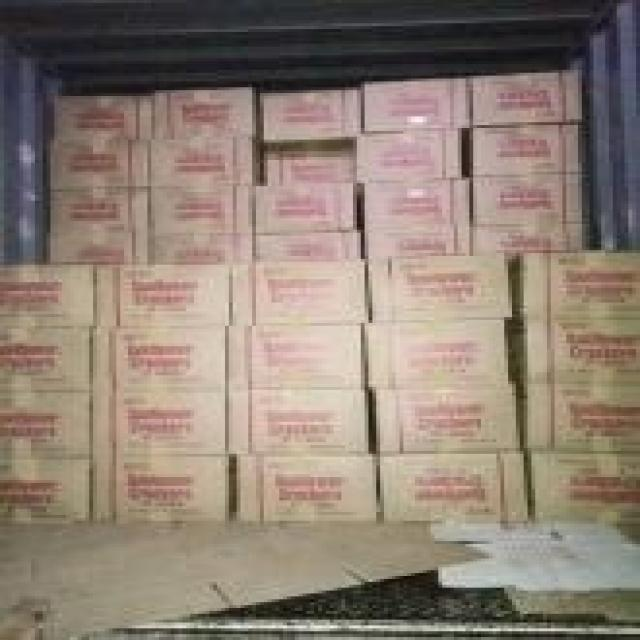box: (380, 451, 528, 524), (372, 384, 520, 454), (365, 320, 512, 387), (368, 256, 512, 323), (229, 387, 368, 454), (233, 457, 376, 521), (93, 460, 229, 524), (508, 253, 640, 317), (93, 326, 225, 390), (93, 393, 225, 457), (229, 326, 365, 387), (233, 262, 368, 323), (97, 265, 229, 326), (528, 454, 640, 521), (524, 320, 640, 384), (524, 387, 640, 451), (0, 326, 93, 393), (469, 125, 586, 175), (357, 128, 462, 183), (473, 175, 590, 224), (365, 76, 469, 131), (0, 393, 89, 457), (0, 460, 89, 524), (0, 265, 93, 326), (473, 73, 582, 125), (365, 177, 469, 230), (260, 87, 361, 140), (155, 87, 256, 140), (151, 137, 260, 186), (252, 183, 357, 233), (151, 186, 252, 236), (47, 143, 151, 189), (54, 93, 155, 140), (47, 189, 147, 233), (469, 221, 590, 256), (147, 227, 256, 262), (256, 230, 365, 262), (264, 148, 353, 186), (50, 233, 151, 265), (365, 230, 473, 256)
